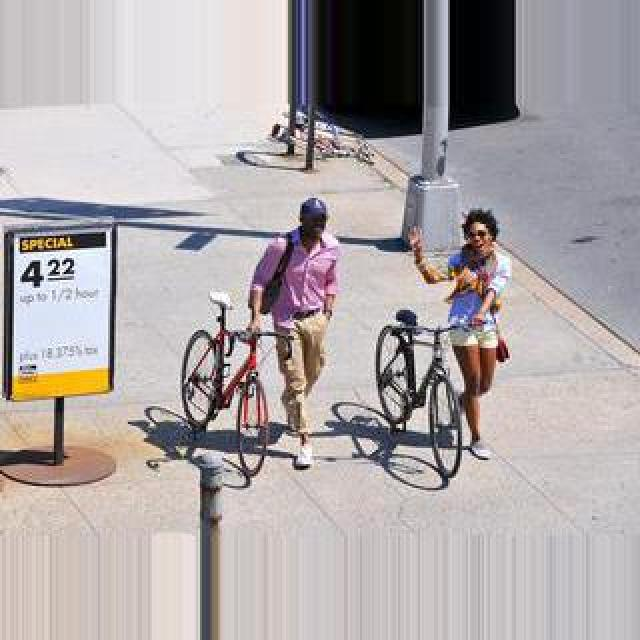MC-Bike: (246, 194, 342, 468), (432, 210, 512, 452)
Person: (180, 290, 300, 480), (377, 305, 493, 479)
